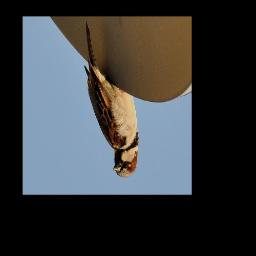Swallow: (84, 21, 140, 177)
